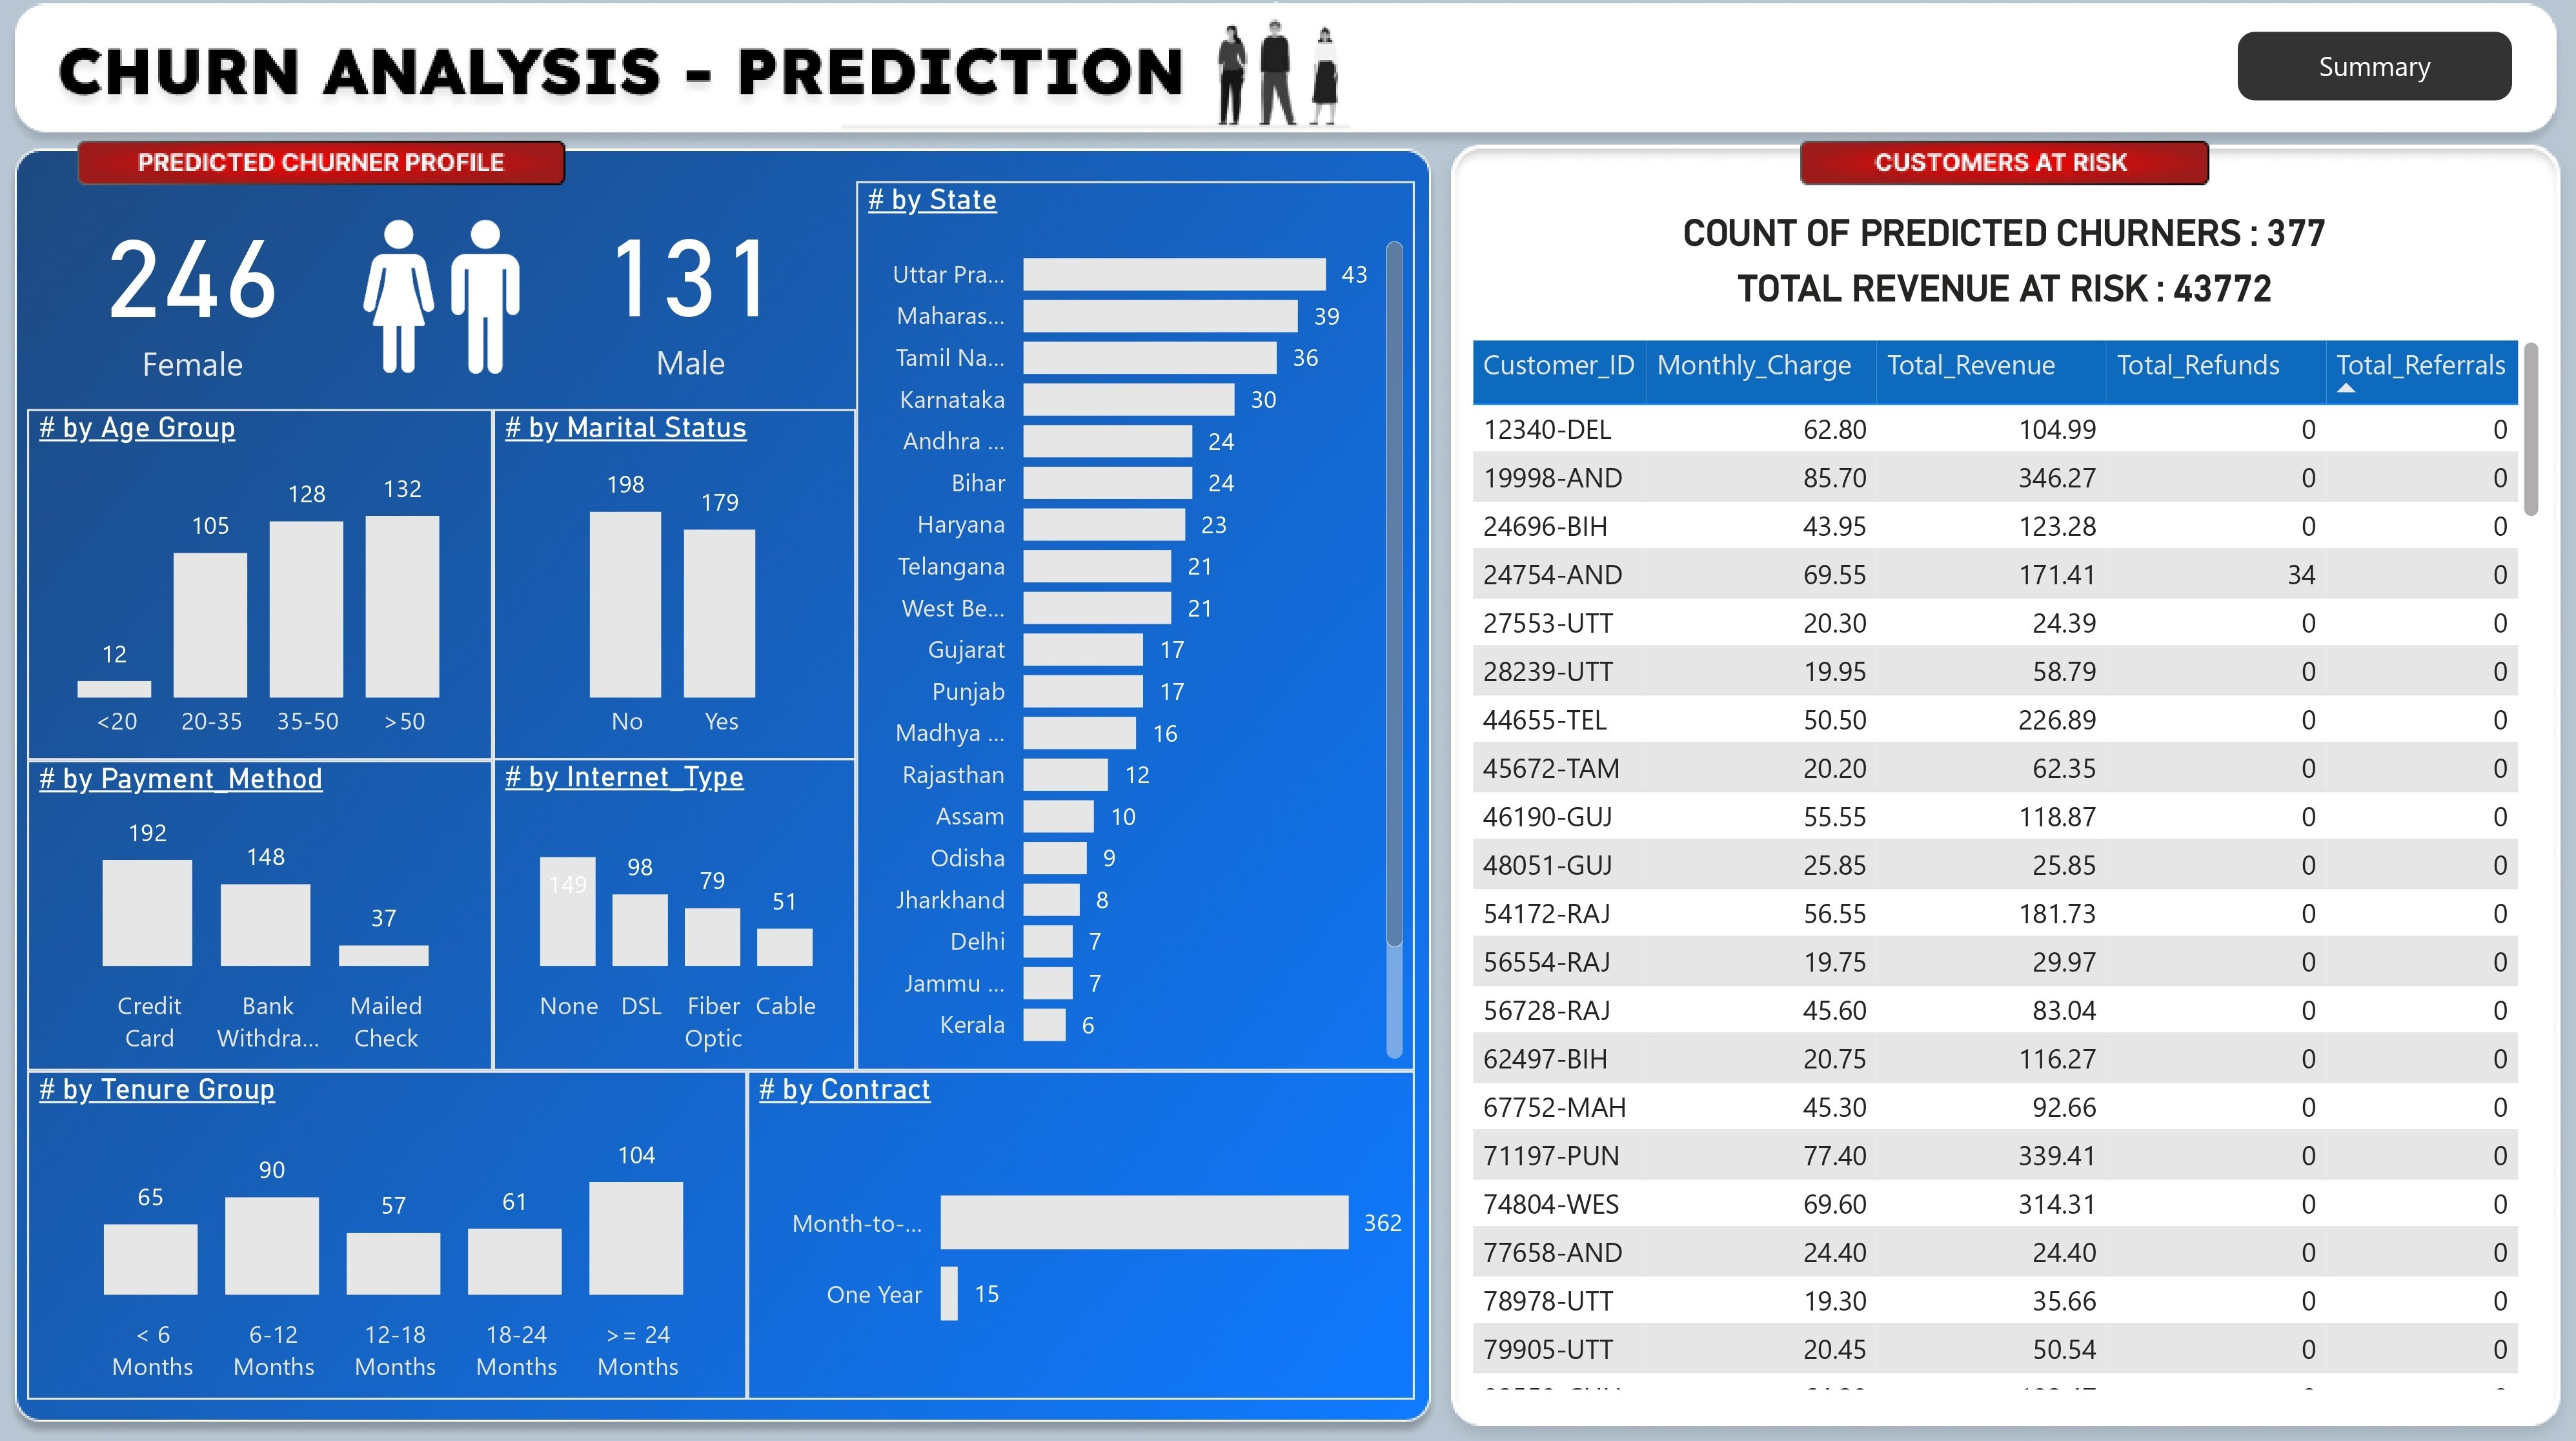

This screenshot's page, from the dashboard's own definition file:
{"tool":"powerbi","page":{"name":"Predictions","canvas":[1280,720],"ordinal":1},"visuals":[{"type":"tableEx","fields":{"Values":["high_risk_churn_list.Customer_ID","high_risk_churn_list.Monthly_Charge","high_risk_churn_list.Total_Revenue","high_risk_churn_list.Total_Refunds","high_risk_churn_list.Number_of_Referrals"]},"box":[727.1,166.2,539.6,529.8],"z":0},{"type":"card","fields":{"Values":["tbl_Measures.Title Predicted Churner"]},"box":[813.3,104,367.1,27.6],"z":1000},{"type":"card","fields":{"Values":["tbl_Measures.Count Predicted Churners"]},"box":[16,82.7,163.6,122.7],"z":2000},{"type":"card","fields":{"Values":["tbl_Measures.Count Predicted Churners"]},"box":[263.1,81.8,163.6,123.6],"z":3000},{"type":"clusteredColumnChart","fields":{"Category":["mapping_AgeGrp.Age Group"],"Y":["CountNonNull(high_risk_churn_list.Customer_ID)"]},"box":[16,205.3,231.1,173.3],"z":4000},{"type":"clusteredColumnChart","fields":{"Y":["CountNonNull(high_risk_churn_list.Customer_ID)"],"Category":["high_risk_churn_list.Married"]},"box":[247.1,205.3,179.6,173.3],"z":5000},{"type":"clusteredColumnChart","fields":{"Y":["CountNonNull(high_risk_churn_list.Customer_ID)"],"Category":["mapping_TenureGrp.Tenure Group"]},"box":[16,533.3,357.3,162.7],"z":6000},{"type":"clusteredColumnChart","fields":{"Y":["CountNonNull(high_risk_churn_list.Customer_ID)"],"Category":["high_risk_churn_list.Payment_Method"]},"box":[16,378.7,231.1,154.7],"z":7000},{"type":"clusteredBarChart","fields":{"Category":["high_risk_churn_list.Contract"],"Y":["CountNonNull(high_risk_churn_list.Customer_ID)"]},"box":[373.3,533.3,330.7,162.7],"z":8000},{"type":"clusteredBarChart","fields":{"Category":["high_risk_churn_list.State"],"Y":["CountNonNull(high_risk_churn_list.Customer_ID)"]},"box":[426.7,91.6,277.3,441.8],"z":9000},{"type":"shape","box":[1112,17.8,136,33.8],"z":10000},{"type":"image","box":[168,91.6,106.7,113.8],"z":11000},{"type":"clusteredColumnChart","fields":{"Category":["high_risk_churn_list.Internet_Type"],"Y":["Sum(high_risk_churn_list.Churn_Prediction)"]},"box":[247.1,377.8,179.6,155.6],"z":12000},{"type":"card","fields":{"Values":["tbl_Measures.Title Predicted Rev"]},"box":[813.3,131.6,367.1,27.6],"z":13000}]}

Visuals, with their boxes in screenshot pixels (x1, y1, x2, y2), scaled from the page's 1280x720 canvas onto the 2576x1441 screenshot:
tableEx - high_risk_churn_list.Customer_ID x high_risk_churn_list.Monthly_Charge: 1463/332/2550/1393
card - tbl_Measures.Title Predicted Churner: 1637/208/2375/263
card - tbl_Measures.Count Predicted Churners: 32/165/361/411
card - tbl_Measures.Count Predicted Churners: 529/164/858/411
clusteredColumnChart - mapping_AgeGrp.Age Group x CountNonNull(high_risk_churn_list.Customer_ID): 32/411/497/758
clusteredColumnChart - CountNonNull(high_risk_churn_list.Customer_ID) x high_risk_churn_list.Married: 497/411/858/758
clusteredColumnChart - CountNonNull(high_risk_churn_list.Customer_ID) x mapping_TenureGrp.Tenure Group: 32/1067/751/1393
clusteredColumnChart - CountNonNull(high_risk_churn_list.Customer_ID) x high_risk_churn_list.Payment_Method: 32/758/497/1068
clusteredBarChart - high_risk_churn_list.Contract x CountNonNull(high_risk_churn_list.Customer_ID): 751/1067/1417/1393
clusteredBarChart - high_risk_churn_list.State x CountNonNull(high_risk_churn_list.Customer_ID): 858/183/1417/1068
shape: 2238/36/2511/103
image: 338/183/553/411
clusteredColumnChart - high_risk_churn_list.Internet_Type x Sum(high_risk_churn_list.Churn_Prediction): 497/756/858/1068
card - tbl_Measures.Title Predicted Rev: 1637/263/2375/319
